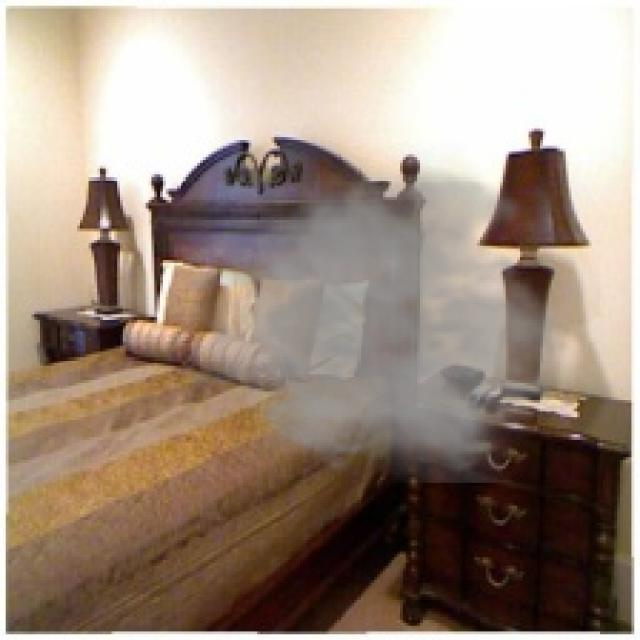smoke: (171, 140, 583, 483)
